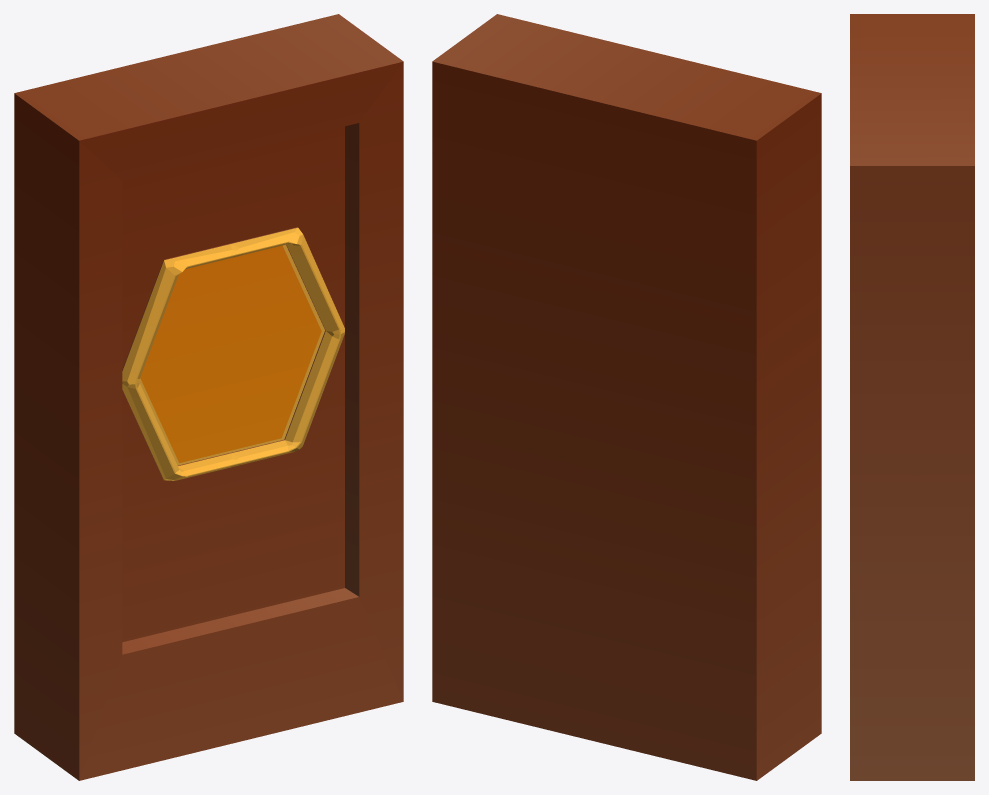
The model's file is WallSmallDeco.fbx.
The picture shows the model from 3 angles, left to right: view 1: azimuth 30°, elevation 25°; view 2: azimuth 150°, elevation 25°; view 3: azimuth 270°, elevation 25°; orthographic projection. The views are drawn at different scales.
Visible parts, largest first — view 1: WallSmallDeco_LOD0; view 2: WallSmallDeco_LOD0; view 3: WallSmallDeco_LOD0.
Boxes of the visible parts, box(x1,y1,x2,y2) form: WallSmallDeco_LOD0: box(14, 14, 403, 780); WallSmallDeco_LOD0: box(432, 14, 821, 780); WallSmallDeco_LOD0: box(850, 14, 974, 780).
Size of what is drawn, in the model's own units: 241 by 454 by 83.49.
